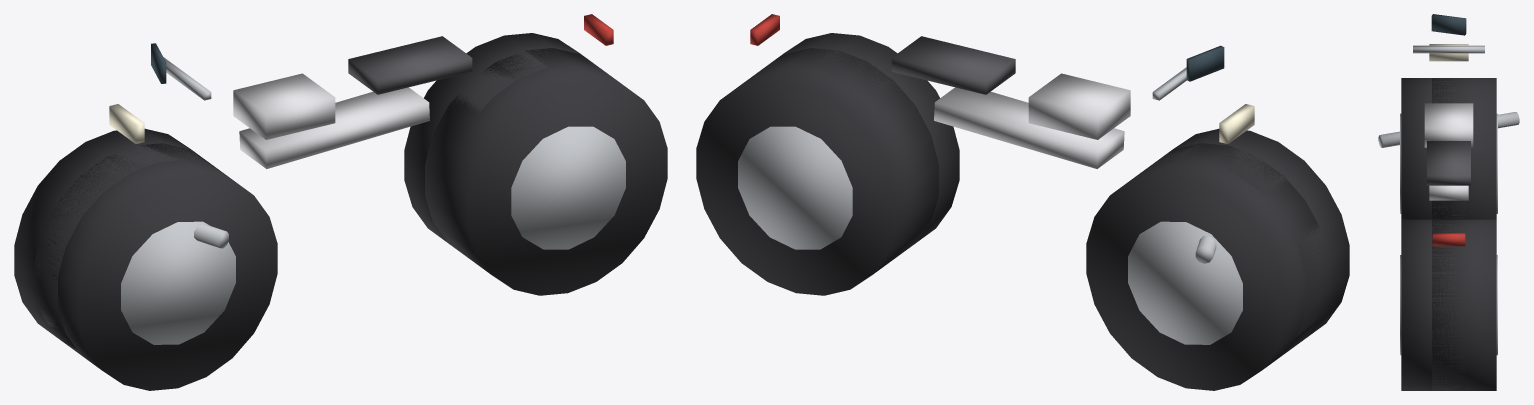
File: motorbike.glb
3 views of the same model, side by side, from view 1: azimuth 30°, elevation 25°; view 2: azimuth 150°, elevation 25°; view 3: azimuth 270°, elevation 25° (orthographic). The views are drawn at different scales.
Visible parts, largest first — view 1: wheel_rear_r, wheel_front_r, wheel_front_l, trim_rim__rear_r, trim_rim__front_r, wheel_rear_l, body_frame, body_tank, body_seat, headlight_front, trim_handle, trim_fork (+1 smaller); view 2: wheel_rear_l, wheel_front_l, trim_rim__rear_l, trim_rim__front_l, wheel_front_r, body_frame, wheel_rear_r, body_tank, body_seat, glass_windshield, headlight_front, taillight_rear; view 3: wheel_rear_l, wheel_rear_r, wheel_front_l, wheel_front_r, body_seat, body_tank, trim_handle, glass_windshield, body_frame, trim_fork, taillight_rear, headlight_front (+4 smaller).
Part boxes in pixels (x1=…): wheel_rear_r: x1=425, y1=48, x2=667, y2=295; wheel_front_r: x1=34, y1=143, x2=277, y2=390; wheel_front_l: x1=14, y1=128, x2=210, y2=350; trim_rim__rear_r: x1=511, y1=126, x2=625, y2=249; trim_rim__front_r: x1=121, y1=221, x2=235, y2=344; wheel_rear_l: x1=404, y1=33, x2=621, y2=242; body_frame: x1=239, y1=87, x2=429, y2=168; body_tank: x1=233, y1=73, x2=335, y2=139; body_seat: x1=348, y1=36, x2=472, y2=94; headlight_front: x1=109, y1=104, x2=144, y2=143; trim_handle: x1=163, y1=57, x2=211, y2=100; trim_fork: x1=194, y1=224, x2=228, y2=248; wheel_rear_l: x1=696, y1=48, x2=938, y2=295; wheel_front_l: x1=1086, y1=143, x2=1323, y2=390; trim_rim__rear_l: x1=738, y1=126, x2=852, y2=249; trim_rim__front_l: x1=1128, y1=221, x2=1242, y2=344; wheel_front_r: x1=1133, y1=128, x2=1349, y2=337; body_frame: x1=934, y1=87, x2=1124, y2=168; wheel_rear_r: x1=742, y1=33, x2=959, y2=243; body_tank: x1=1028, y1=73, x2=1130, y2=139; body_seat: x1=891, y1=36, x2=1015, y2=94; glass_windshield: x1=1186, y1=45, x2=1224, y2=81; headlight_front: x1=1219, y1=104, x2=1254, y2=143; taillight_rear: x1=750, y1=14, x2=779, y2=45; wheel_rear_l: x1=1432, y1=219, x2=1496, y2=390; wheel_rear_r: x1=1401, y1=219, x2=1465, y2=390; wheel_front_l: x1=1432, y1=78, x2=1496, y2=219; wheel_front_r: x1=1401, y1=78, x2=1465, y2=219; body_seat: x1=1427, y1=141, x2=1470, y2=185; body_tank: x1=1424, y1=103, x2=1473, y2=147; trim_handle: x1=1413, y1=45, x2=1484, y2=53; glass_windshield: x1=1431, y1=14, x2=1466, y2=35; body_frame: x1=1429, y1=185, x2=1468, y2=200; trim_fork: x1=1378, y1=112, x2=1519, y2=147; taillight_rear: x1=1432, y1=233, x2=1465, y2=246; headlight_front: x1=1429, y1=44, x2=1468, y2=61.
Size of the model in its own units: 2.62 by 1.31 by 0.7311.
